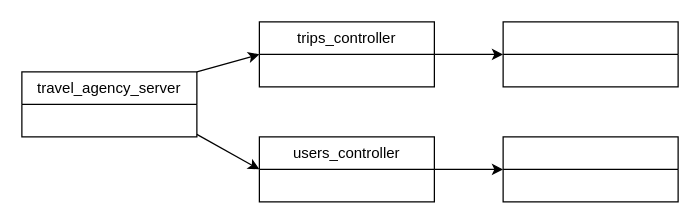
This 700x224 diagram has some shape labels left out. The shapes that lost their labels are listed below. From the top down, each one's box as (x1, y1, x2, y2) in pixels, then its label:
(502, 21, 678, 87): db_trips_service
(502, 136, 678, 202): db_users_service
